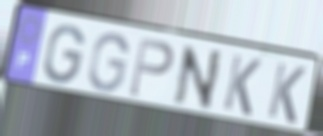G: (86, 30, 131, 94), (42, 23, 87, 86)
K: (220, 52, 264, 119), (265, 60, 308, 127)
N: (172, 43, 226, 113)
P: (127, 35, 176, 100)
